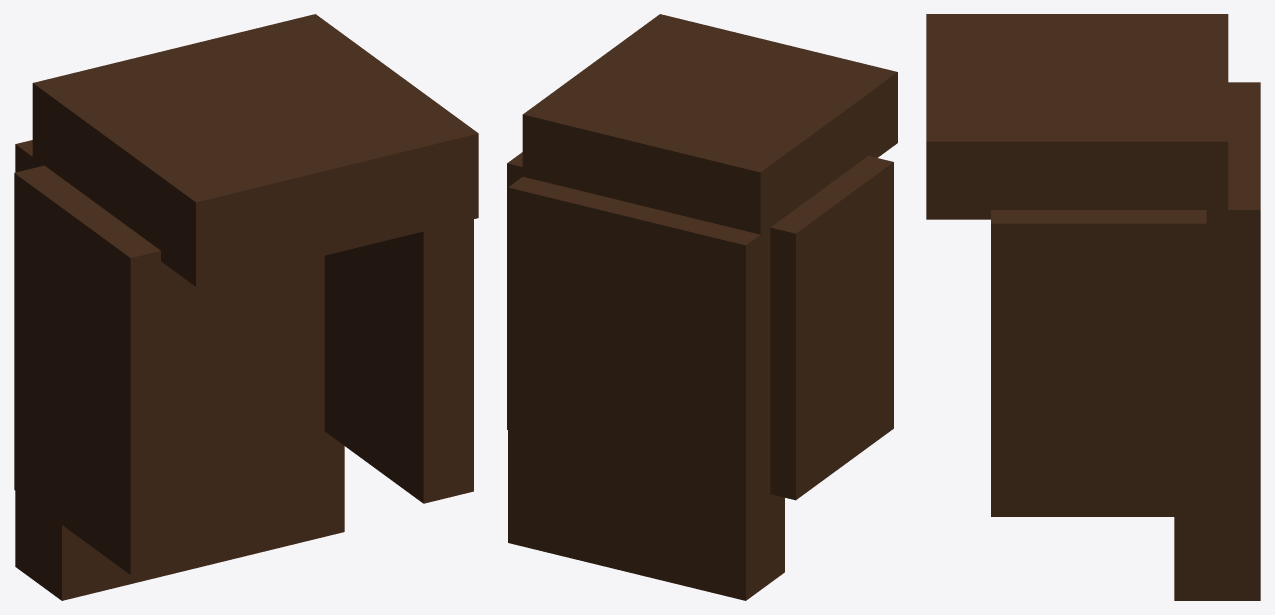
Rendered from hair_long.glb.
3 views of the same model, side by side, from view 1: azimuth 30°, elevation 25°; view 2: azimuth 150°, elevation 25°; view 3: azimuth 270°, elevation 25° (orthographic). The views are drawn at different scales.
Parts seen in each view (by area): view 1: hair_top, hair_side_r, hair_back, hair_side_l; view 2: hair_back, hair_top, hair_side_r, hair_side_l; view 3: hair_side_l, hair_top, hair_back.
Part boxes in pixels (bbox=[...]): hair_top: bbox=[32, 14, 478, 286]; hair_side_r: bbox=[14, 165, 181, 574]; hair_back: bbox=[15, 140, 344, 600]; hair_side_l: bbox=[324, 219, 473, 503]; hair_back: bbox=[508, 177, 784, 600]; hair_top: bbox=[522, 14, 897, 241]; hair_side_r: bbox=[770, 156, 893, 500]; hair_side_l: bbox=[507, 152, 522, 429]; hair_side_l: bbox=[991, 210, 1206, 516]; hair_top: bbox=[926, 14, 1228, 219]; hair_back: bbox=[1174, 82, 1260, 600].
Bounding box in the file's own units: 0.34 × 0.47 × 0.31.
